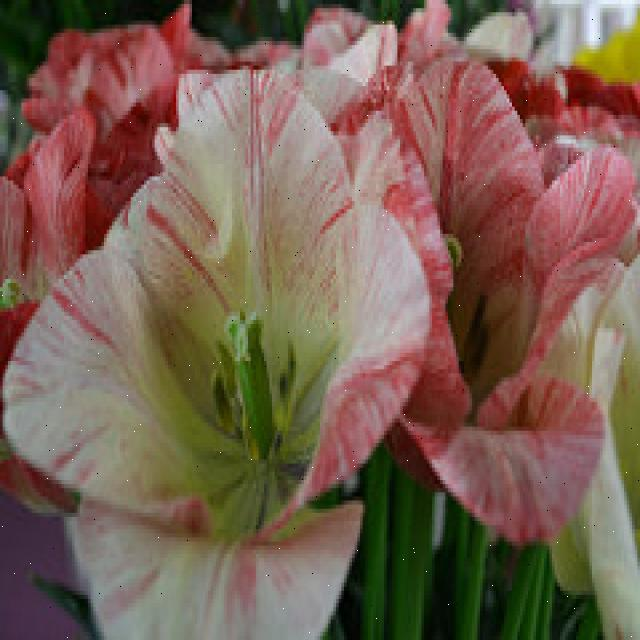Bloomed: (2, 56, 445, 631)
